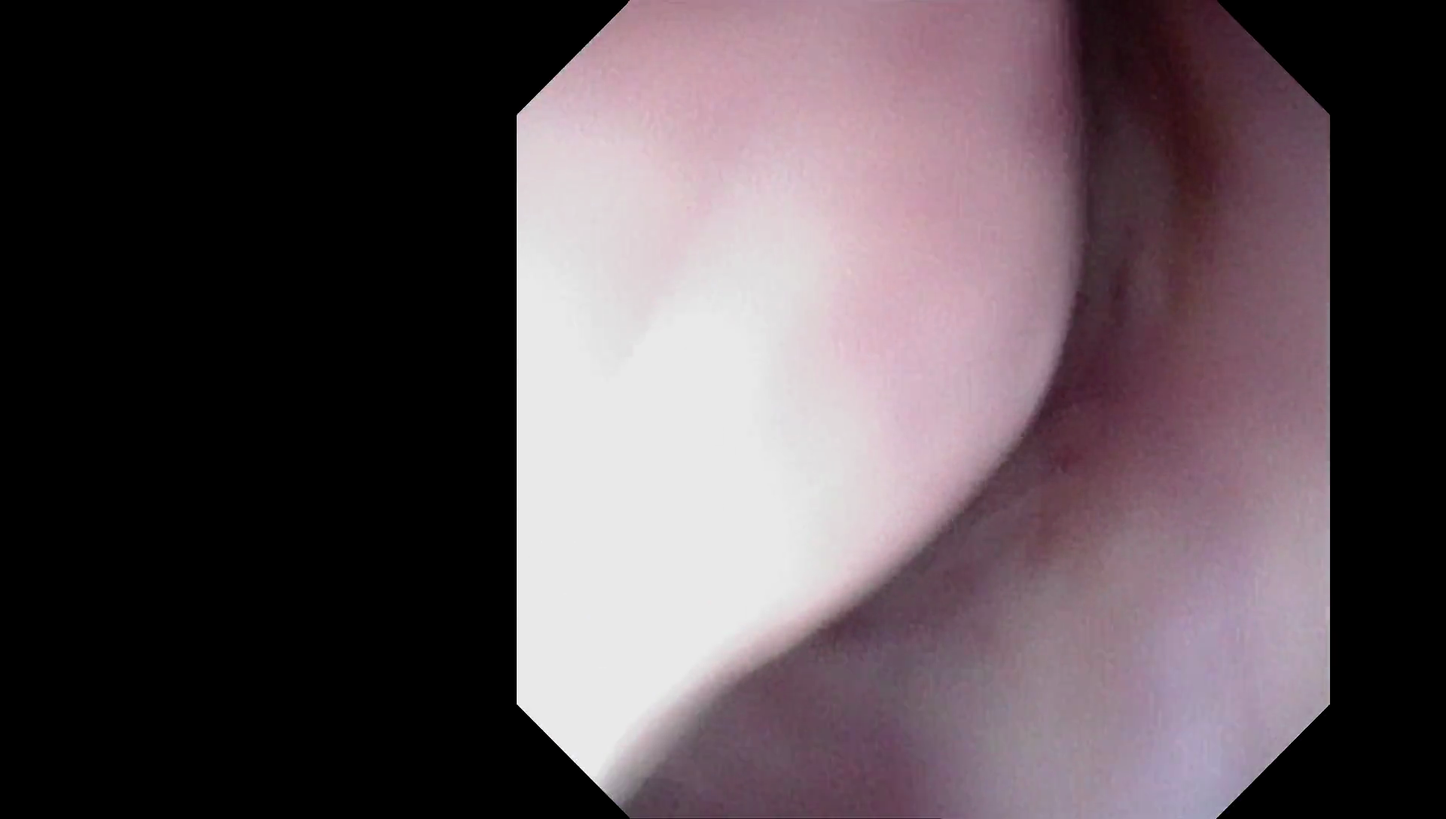close_wall: (538, 135, 985, 699)
next: (1002, 0, 1184, 352)
